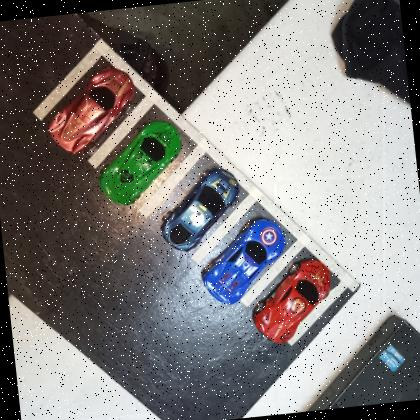Car: (40, 63, 142, 158), (196, 214, 292, 308), (91, 117, 188, 208), (153, 164, 246, 255), (246, 255, 338, 346)
